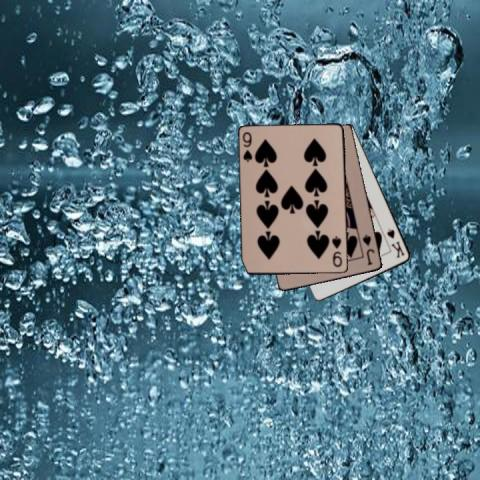9s: (330, 233, 344, 269), (240, 129, 253, 164)
Js: (360, 231, 376, 267)
Ks: (384, 226, 406, 259)
